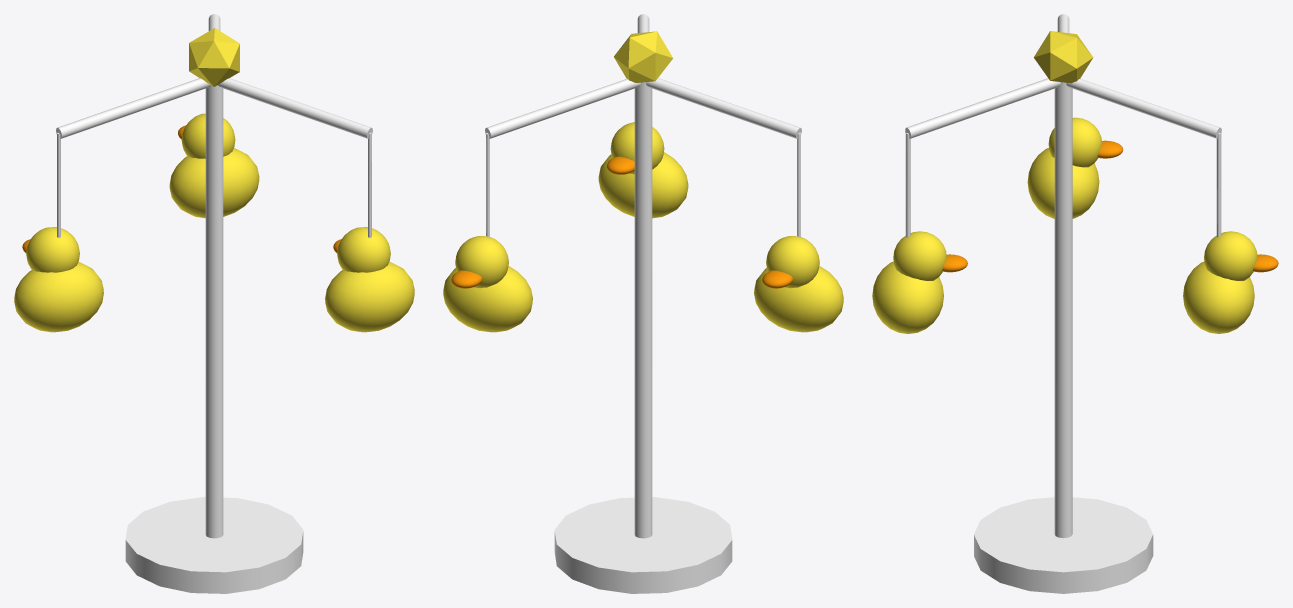
Rendered from baby_mobile.fbx.
3 views of the same model, side by side, from view 1: azimuth 30°, elevation 25°; view 2: azimuth 150°, elevation 25°; view 3: azimuth 270°, elevation 25° (orthographic).
Visible parts, largest first — view 1: Duck Mobile; view 2: Duck Mobile; view 3: Duck Mobile.
Part boxes in pixels (x1=…): Duck Mobile: x1=14, y1=14, x2=414, y2=593; Duck Mobile: x1=443, y1=14, x2=843, y2=593; Duck Mobile: x1=872, y1=14, x2=1278, y2=593.
Size of the model in its own units: 0.61 by 0.9625 by 0.6796.
